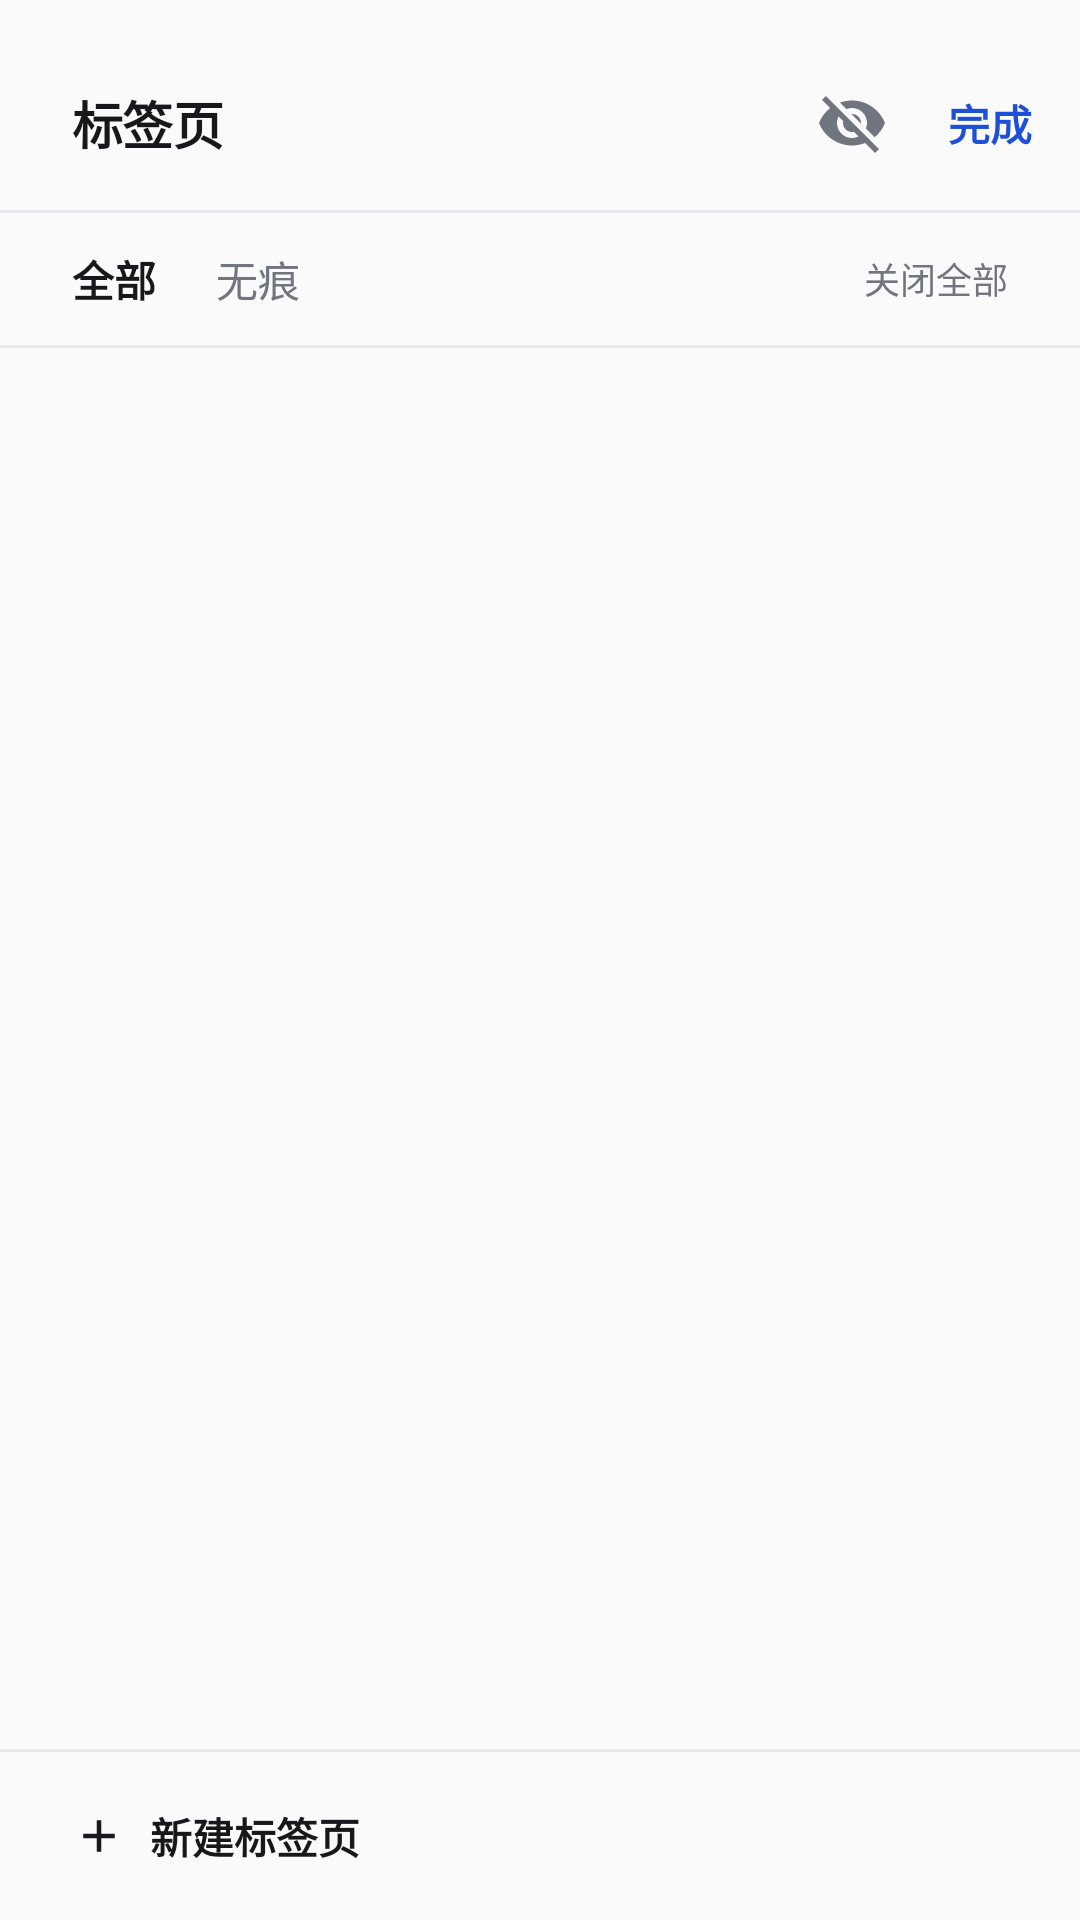

Icon click points for this 1080 x 1920 phone screenshot, format [x,y]:
无痕: [852,124]
